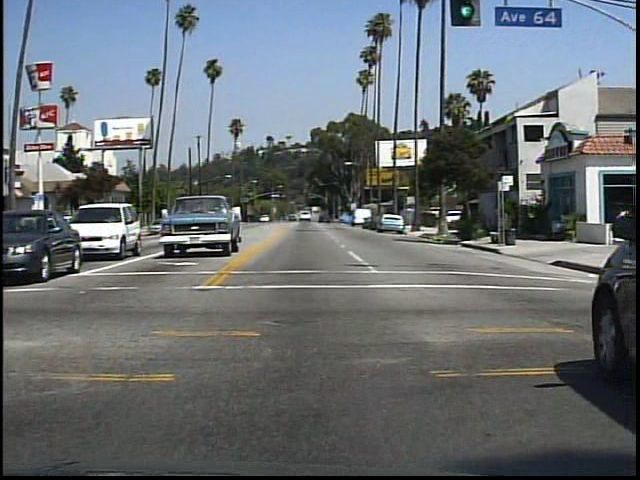person: (471, 199, 493, 244)
